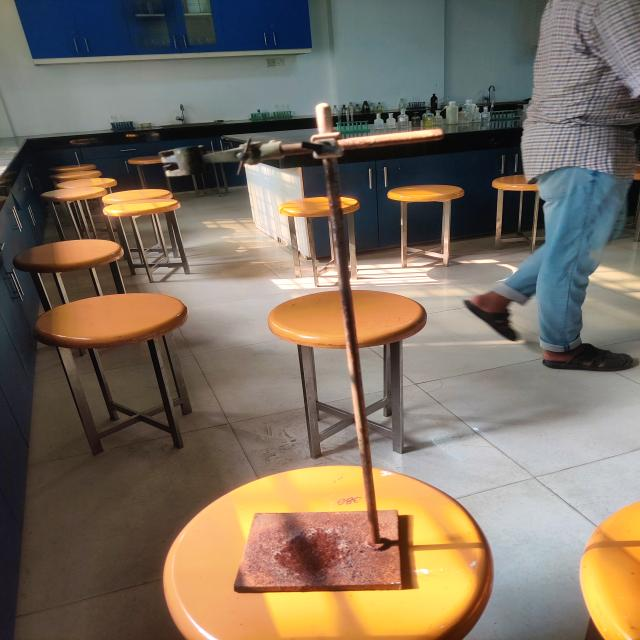Burette_Stands: (124, 83, 488, 626)
